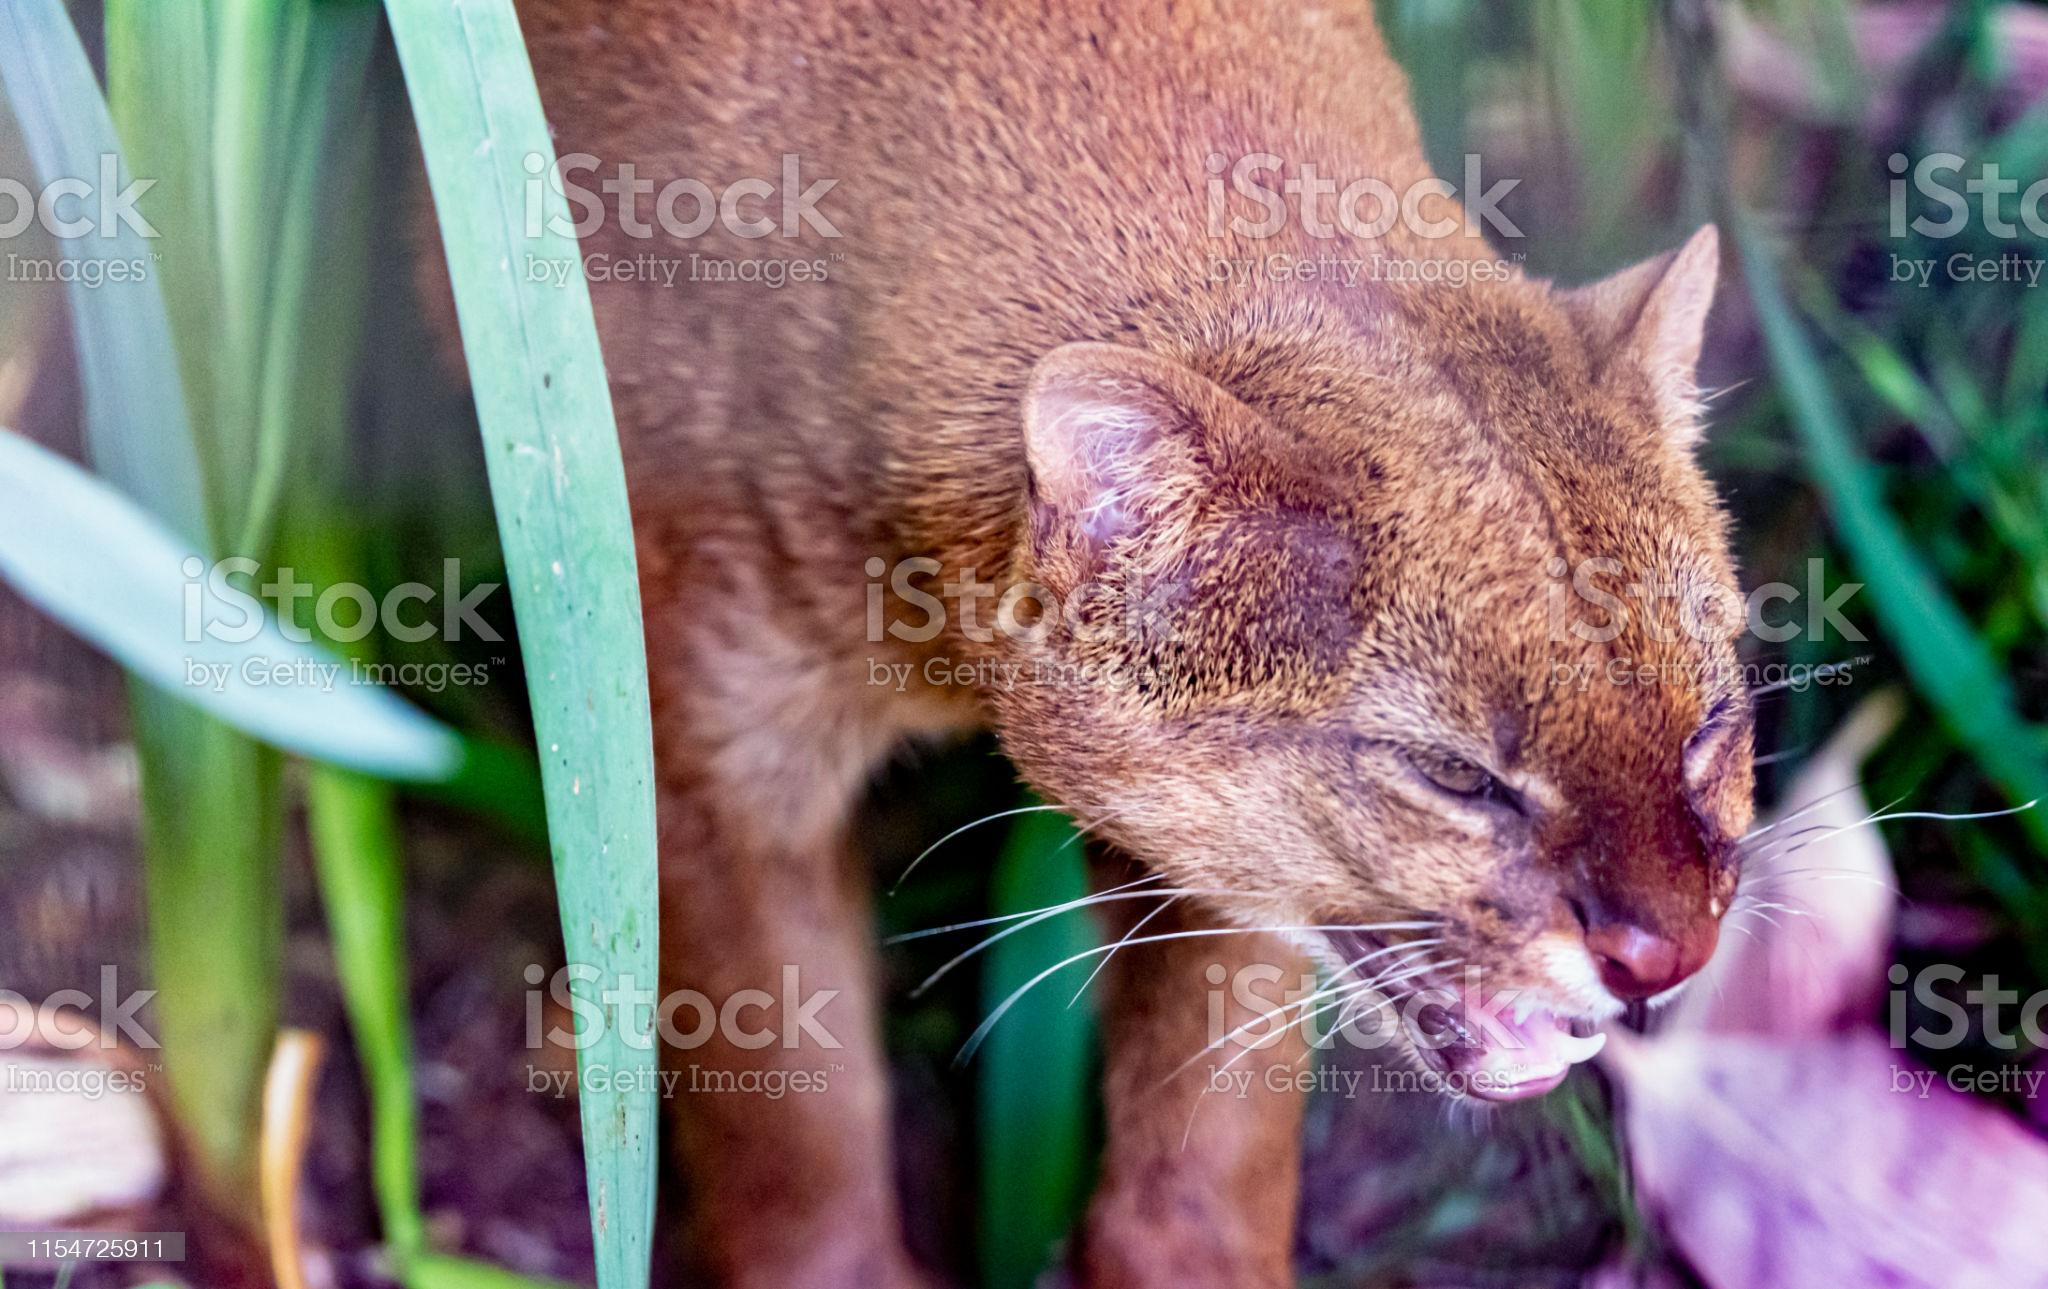Jaguarundi: (631, 27, 1772, 1152)
